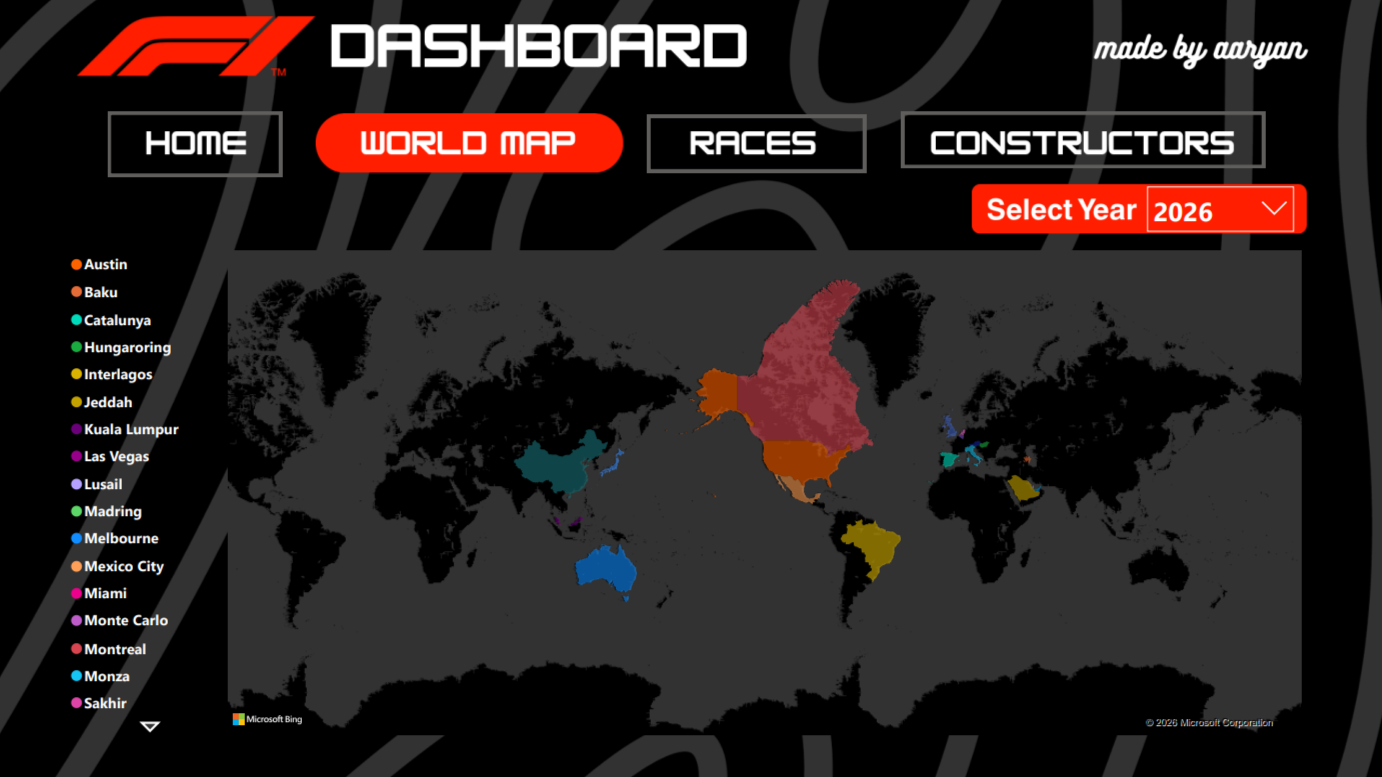

Layout of this report page (visuals, bound fields, positions):
{"tool":"powerbi","page":{"name":"Page 2","canvas":[1280,720],"ordinal":1},"visuals":[{"type":"slicer","fields":{"Values":["Master_Meetings.year"]},"box":[1051.5,163.2,155.7,64.3],"z":0},{"type":"filledMap","fields":{"Y":["Avg(Master_Meetings.latitude)"],"X":["Avg(Master_Meetings.longitude)"],"Category":["Master_Meetings.country_name"],"Series":["Master_Meetings.circuit_display"]},"box":[60,227.2,1148.6,458],"z":1000},{"type":"actionButton","box":[100,104.1,160.9,59.5],"z":2000},{"type":"actionButton","box":[598.6,107.1,202.9,52.9],"z":3000},{"type":"actionButton","box":[834,104,336,52],"z":4000}]}

Visuals, with their boxes in screenshot pixels (x1, y1, x2, y2), scaled from the page's 1280x720 canvas onto the 1382x777 screenshot:
slicer - Master_Meetings.year: bbox=[1135, 176, 1303, 246]
filledMap - Avg(Master_Meetings.latitude) x Avg(Master_Meetings.longitude): bbox=[65, 245, 1305, 739]
actionButton: bbox=[108, 112, 282, 177]
actionButton: bbox=[646, 116, 865, 173]
actionButton: bbox=[900, 112, 1263, 168]
